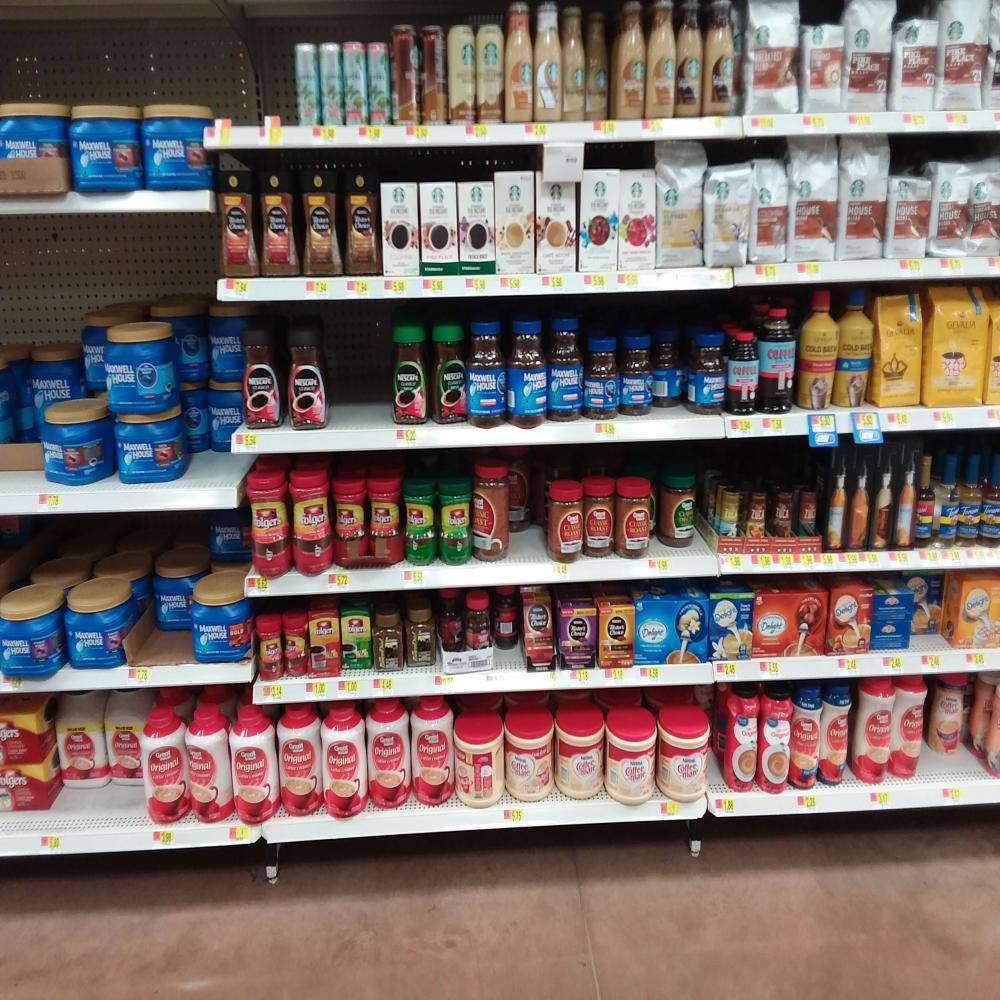shelf: (0, 779, 1000, 858), (252, 646, 1000, 705), (245, 542, 1000, 599), (232, 402, 1000, 454), (215, 254, 1000, 302), (201, 110, 1000, 152), (0, 662, 250, 691), (0, 185, 208, 213), (0, 491, 238, 514)
